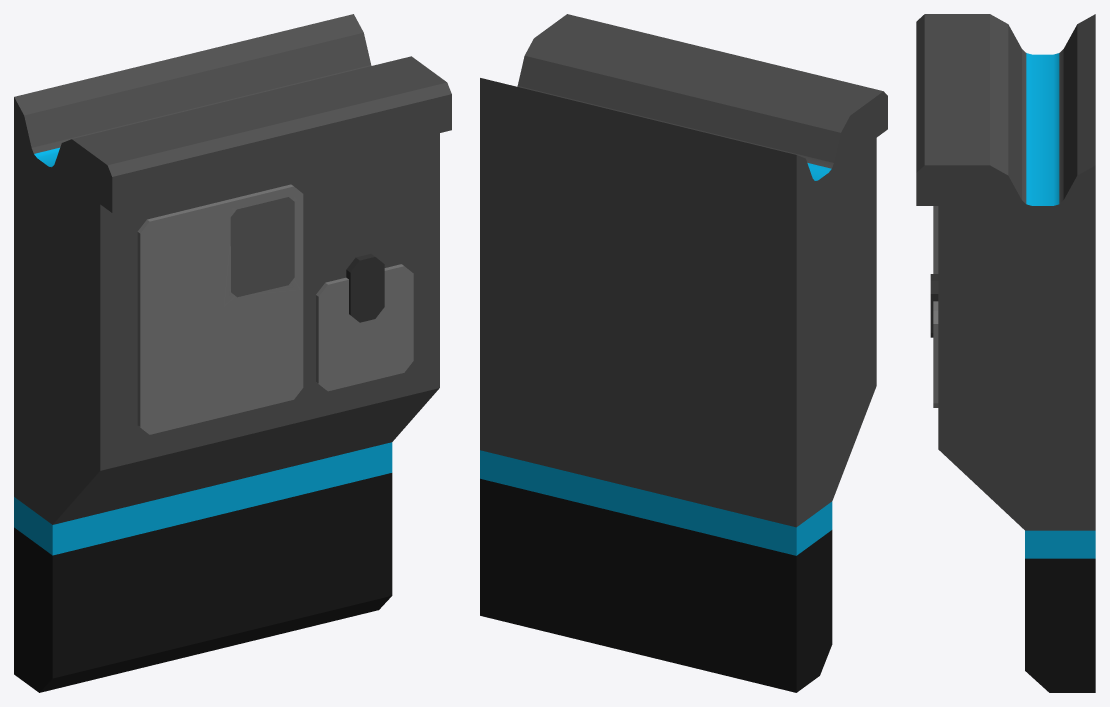
Rendered from Floor_Edge_01x2E.fbx.
The picture shows the model from 3 angles, left to right: view 1: azimuth 30°, elevation 25°; view 2: azimuth 150°, elevation 25°; view 3: azimuth 270°, elevation 25°; orthographic projection. The views are drawn at different scales.
Parts seen in each view (by area): view 1: Floor_Edge_01x2E; view 2: Floor_Edge_01x2E; view 3: Floor_Edge_01x2E.
Boxes of the visible parts, left/top/right/bottom form: Floor_Edge_01x2E: left=14, top=14, right=451, bottom=692; Floor_Edge_01x2E: left=480, top=14, right=887, bottom=692; Floor_Edge_01x2E: left=916, top=14, right=1095, bottom=692.
Bounding box in the file's own units: 400 × 650 × 200.
